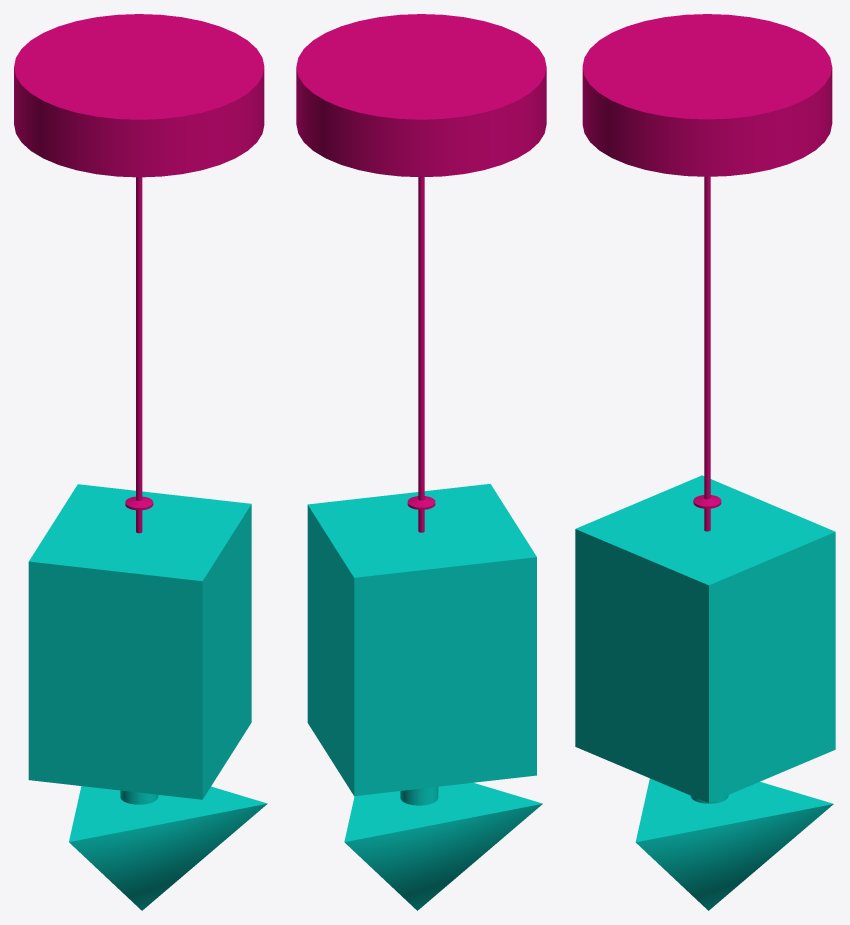
File: tight_money.fbx
3 renders of one model, left to right at view 1: azimuth 30°, elevation 25°; view 2: azimuth 150°, elevation 25°; view 3: azimuth 270°, elevation 25°, orthographic.
Visible parts, largest first — view 1: Cylinder010; view 2: Cylinder010; view 3: Cylinder010.
Part boxes in pixels (x1,y1,x2,y2): Cylinder010: (14,14,267,910); Cylinder010: (296,14,546,910); Cylinder010: (575,14,835,910).
Size of the model in its own units: 3.06 by 10.91 by 3.06.
